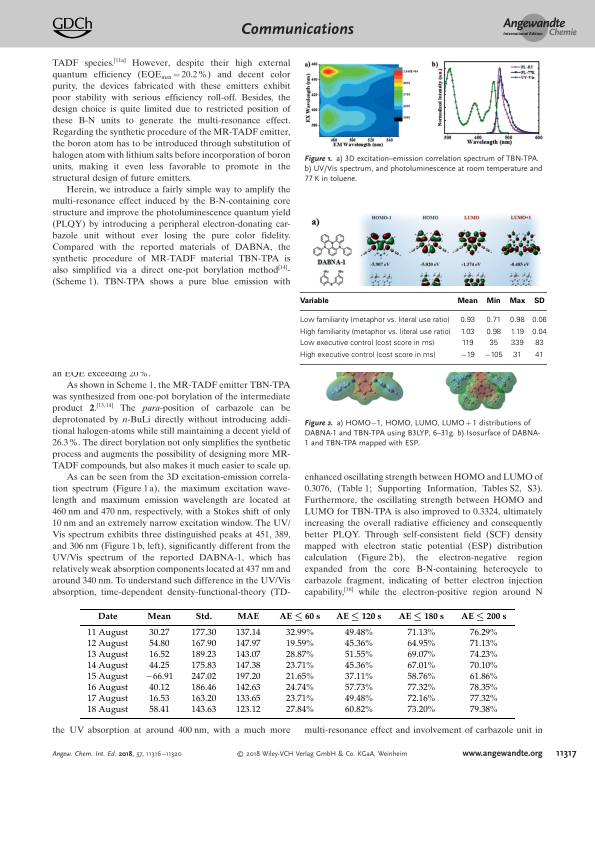borderless: (79, 607, 515, 718), (299, 291, 547, 365)
cell: (298, 328, 451, 337), (298, 316, 450, 325), (298, 351, 436, 360), (298, 339, 435, 348), (335, 612, 382, 622), (397, 612, 444, 622), (460, 612, 507, 622), (86, 628, 128, 639), (86, 639, 128, 650), (86, 650, 128, 661), (86, 661, 128, 672), (86, 672, 128, 683), (86, 683, 128, 694), (86, 694, 128, 705), (86, 705, 128, 716), (278, 612, 321, 622), (343, 628, 373, 639), (406, 628, 436, 639), (468, 628, 498, 639), (343, 639, 373, 650), (406, 639, 436, 650), (468, 639, 498, 650), (343, 650, 373, 661), (406, 650, 436, 661), (468, 650, 498, 661), (343, 661, 373, 672), (406, 661, 436, 672), (468, 661, 498, 672), (144, 672, 174, 683), (343, 672, 373, 683), (406, 672, 436, 683), (468, 672, 498, 683), (343, 683, 373, 694), (406, 683, 436, 694), (468, 683, 498, 694), (343, 694, 373, 705), (406, 694, 436, 705), (468, 694, 498, 705), (343, 705, 373, 716), (406, 705, 436, 716), (468, 705, 498, 716), (285, 628, 314, 639), (285, 639, 314, 650), (285, 650, 314, 661), (285, 661, 314, 672), (285, 672, 314, 683), (285, 683, 314, 694), (285, 694, 314, 705), (285, 705, 314, 716), (190, 628, 217, 639), (234, 628, 261, 639), (190, 639, 217, 650), (234, 639, 261, 650), (190, 650, 217, 661), (234, 650, 261, 661), (190, 661, 217, 672), (234, 661, 261, 672), (190, 672, 217, 683), (234, 672, 261, 683), (190, 683, 217, 694), (234, 683, 261, 694), (190, 694, 217, 705), (234, 694, 261, 705), (190, 705, 217, 716), (234, 705, 261, 716), (298, 297, 329, 305), (148, 628, 170, 639), (148, 639, 170, 650), (148, 650, 170, 661), (148, 661, 170, 672), (148, 683, 170, 694), (148, 694, 170, 705), (148, 705, 170, 716), (146, 612, 172, 620), (236, 612, 259, 620), (483, 351, 503, 360), (456, 297, 478, 305), (96, 612, 118, 620), (508, 316, 525, 325), (459, 316, 475, 325), (485, 316, 501, 325), (531, 316, 547, 325), (459, 328, 475, 337), (485, 328, 501, 337), (531, 328, 547, 337), (459, 351, 475, 360), (194, 612, 212, 620), (508, 297, 525, 305), (509, 328, 524, 337), (509, 339, 524, 348), (485, 297, 501, 305), (460, 339, 474, 348), (533, 297, 545, 305), (488, 339, 498, 348), (534, 339, 544, 348), (512, 351, 522, 360), (534, 351, 544, 360)
